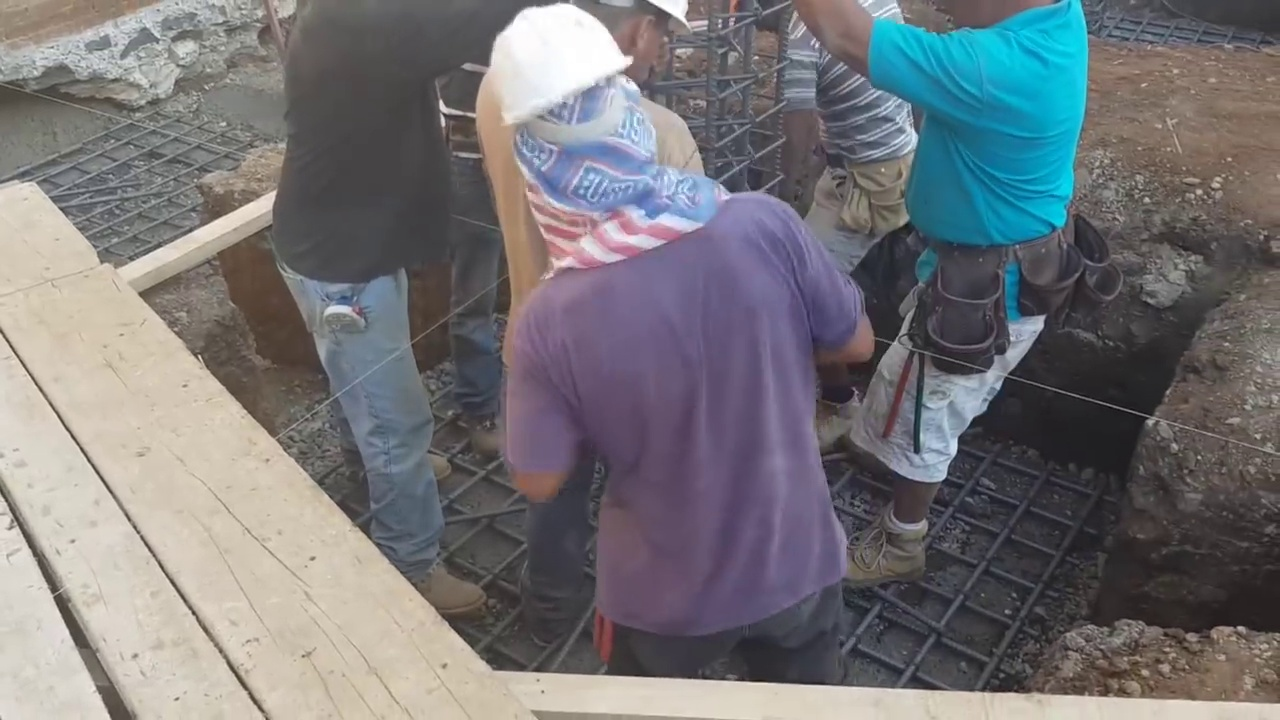helmet: (481, 21, 627, 135)
helmet-off: (915, 0, 1058, 55)
helmet-on: (482, 23, 729, 284), (568, 0, 693, 86)
person: (493, 28, 891, 700), (735, 0, 1098, 600), (259, 0, 483, 635), (767, 0, 933, 320)
